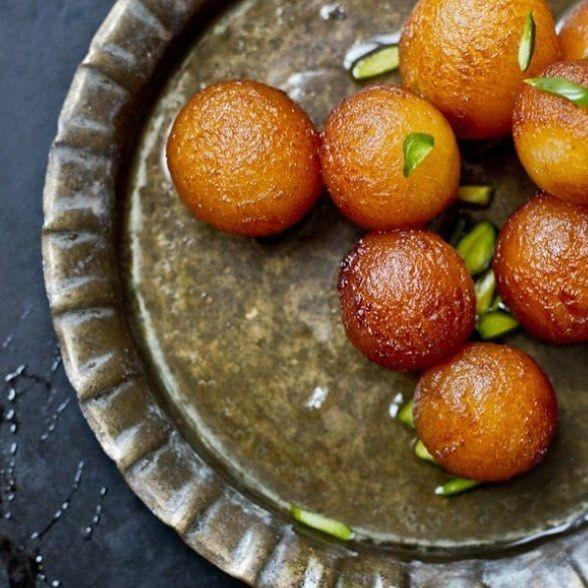GulabJamun: (175, 83, 322, 234), (315, 73, 460, 224), (415, 337, 559, 479), (398, 0, 559, 127), (338, 231, 476, 371), (502, 189, 588, 349), (515, 60, 588, 204), (558, 0, 588, 62)
